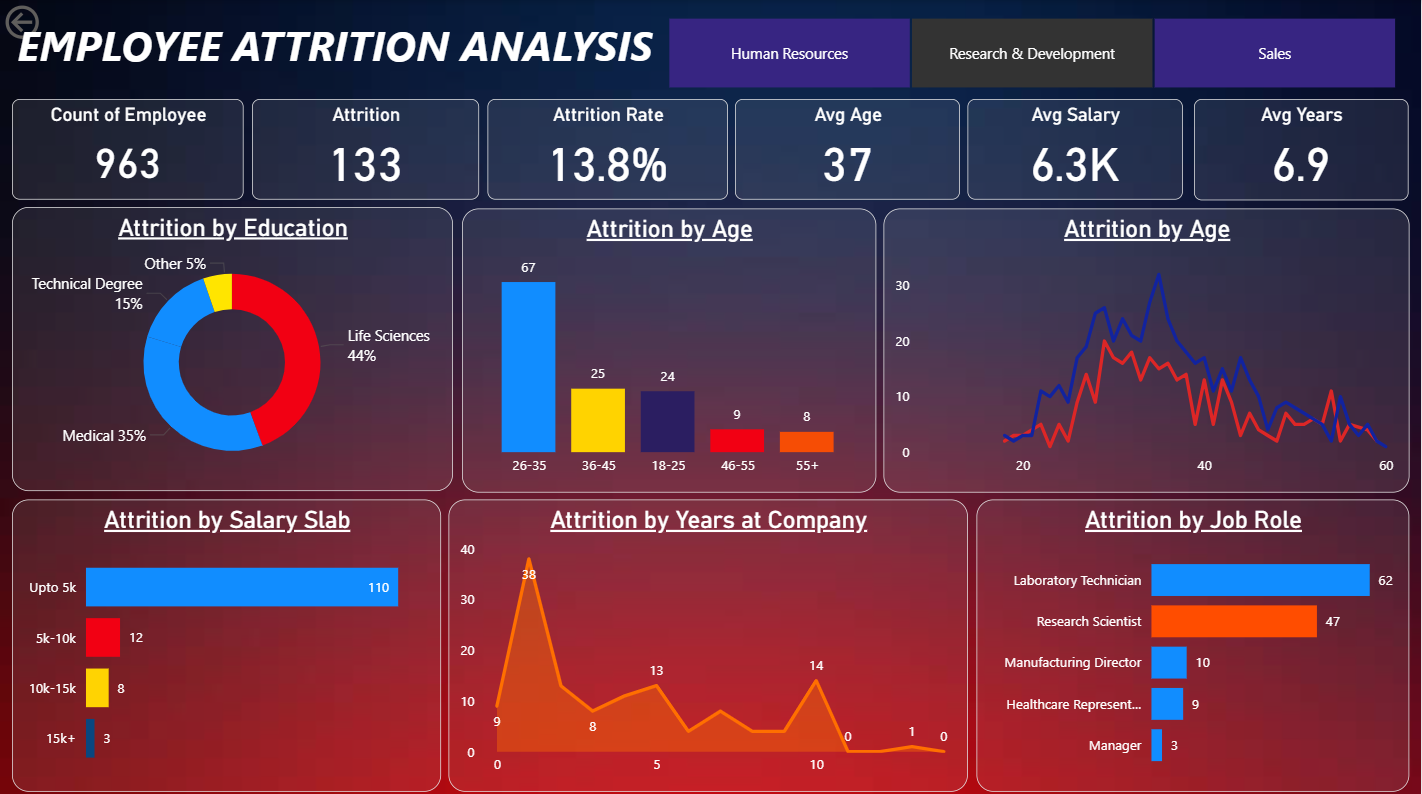

The dashboard page shown, as its layout file describes it:
{"tool":"powerbi","page":{"name":"Page 1","canvas":[1280,720],"ordinal":0},"visuals":[{"type":"card","title":"Count of Employee","fields":{"Values":["Sum(HR_Analytics.EmployeeCount)"]},"box":[10.6,89.3,209,90.9],"z":0},{"type":"card","title":"Attrition","fields":{"Values":["Sum(HR_Analytics.AttritionCount)"]},"box":[227.1,89.3,204.4,90.9],"z":1000},{"type":"card","title":"Attrition Rate","fields":{"Values":["HR_Analytics.AttritionRate"]},"box":[439.1,89.3,216.5,90.9],"z":2000},{"type":"card","title":"Avg Age","fields":{"Values":["Avg(HR_Analytics.Age)"]},"box":[661.7,89.3,202.9,90.9],"z":3000},{"type":"card","title":"Avg Years","fields":{"Values":["Avg(HR_Analytics.YearsAtCompany)"]},"box":[1075.7,89.3,193,91],"z":4000},{"type":"card","title":"Avg Salary","fields":{"Values":["Avg(HR_Analytics.MonthlyIncome)"]},"box":[872.2,89.3,193.8,90.9],"z":5000},{"type":"donutChart","title":" Attrition by Education","fields":{"Category":["HR_Analytics.EducationField"],"Y":["Sum(HR_Analytics.AttritionCount)"]},"box":[11.3,187.1,397,256],"z":6000},{"type":"columnChart","title":" Attrition by Age","fields":{"Category":["HR_Analytics.AgeGroup"],"Y":["Sum(HR_Analytics.AttritionCount)"]},"box":[416.4,187.8,373,255.9],"z":7000},{"type":"actionButton","box":[0,0,100,40],"z":8000},{"type":"clusteredBarChart","title":" Attrition by Salary Slab","fields":{"Category":["HR_Analytics.SalarySlab"],"Y":["Sum(HR_Analytics.AttritionCount)"]},"box":[11.3,450.7,386,258],"z":9000},{"type":"clusteredBarChart","title":" Attrition by Job Role","fields":{"Y":["Sum(HR_Analytics.AttritionCount)"],"Category":["HR_Analytics.JobRole"]},"box":[880.2,450.7,389.8,259.4],"z":10000},{"type":"areaChart","title":" Attrition by Years at Company","fields":{"Category":["HR_Analytics.YearsAtCompany"],"Y":["Sum(HR_Analytics.AttritionCount)"]},"box":[403.9,450.7,468,259.4],"z":11000},{"type":"lineChart","title":" Attrition by Age","fields":{"Category":["HR_Analytics.Age"],"Y":["CountNonNull(HR_Analytics.AttritionCount)"],"Series":["HR_Analytics.Gender"]},"box":[796.5,187.8,473.9,255.9],"z":12000},{"type":"slicer","title":"Filter by Departments","fields":{"Values":["HR_Analytics.Department"]},"box":[576.9,9.1,704,76],"z":13000},{"type":"textbox","box":[10.6,9.1,590.5,63.6],"z":14000}]}

Visuals, with their boxes in screenshot pixels (x1, y1, x2, y2), scaled from the page's 1280x720 canvas onto the 1422x794 screenshot:
"Count of Employee" card: <box>12,98,244,199</box>
"Attrition" card: <box>252,98,479,199</box>
"Attrition Rate" card: <box>488,98,728,199</box>
"Avg Age" card: <box>735,98,961,199</box>
"Avg Years" card: <box>1195,98,1409,199</box>
"Avg Salary" card: <box>969,98,1184,199</box>
" Attrition by Education" donutChart: <box>13,206,454,489</box>
" Attrition by Age" columnChart: <box>463,207,877,489</box>
actionButton: <box>0,0,111,44</box>
" Attrition by Salary Slab" clusteredBarChart: <box>13,497,441,782</box>
" Attrition by Job Role" clusteredBarChart: <box>978,497,1411,783</box>
" Attrition by Years at Company" areaChart: <box>449,497,969,783</box>
" Attrition by Age" lineChart: <box>885,207,1411,489</box>
"Filter by Departments" slicer: <box>641,10,1421,94</box>
textbox: <box>12,10,668,80</box>
